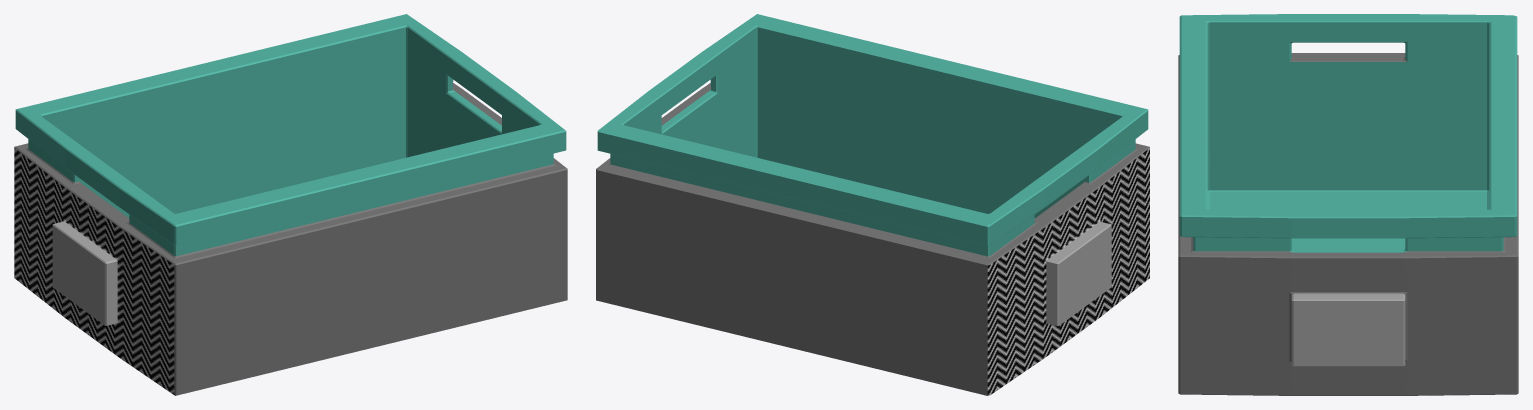
3 renders of one model, left to right at view 1: azimuth 30°, elevation 25°; view 2: azimuth 150°, elevation 25°; view 3: azimuth 270°, elevation 25°, orthographic. The views are drawn at different scales.
Visible parts, largest first — view 1: SM_Box_01; view 2: SM_Box_01; view 3: SM_Box_01.
Boxes of the visible parts, x1,y1,x2,y2 form: SM_Box_01: (14, 14, 567, 395); SM_Box_01: (596, 14, 1149, 395); SM_Box_01: (1178, 14, 1518, 395).
Size of the model in its own units: 89.9 by 59.37 by 34.4.
1 material, 1 textured.
